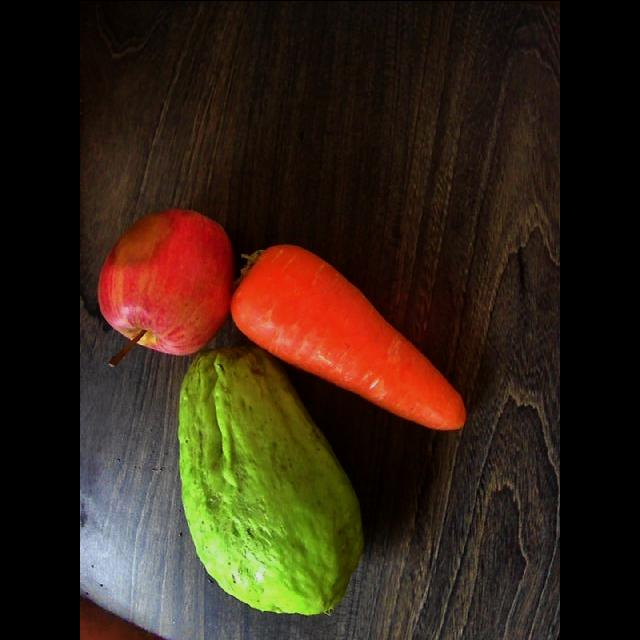chayote: (179, 344, 363, 614)
manzana: (100, 208, 234, 365)
zanahoria: (230, 243, 465, 428)
